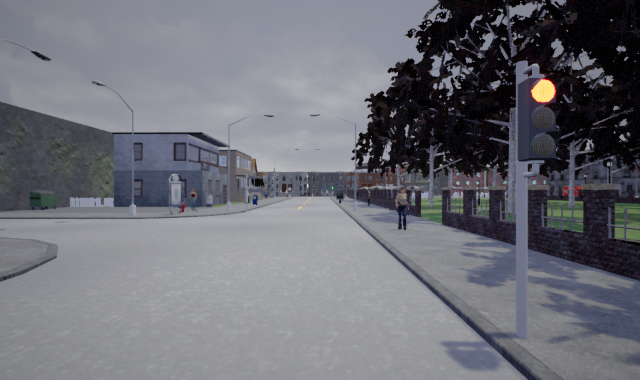pedestrian: (391, 184, 412, 230), (188, 188, 198, 213)
traffic_light: (517, 77, 561, 161)
